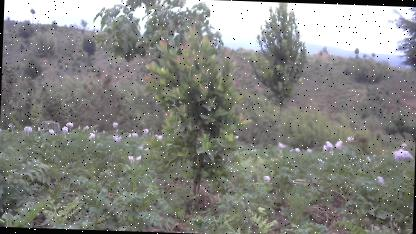tree: (140, 25, 251, 212), (243, 1, 320, 108)
